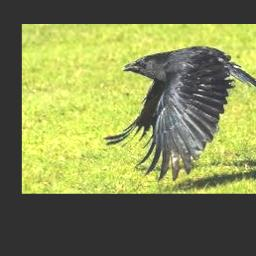Crow: (103, 46, 256, 182)
